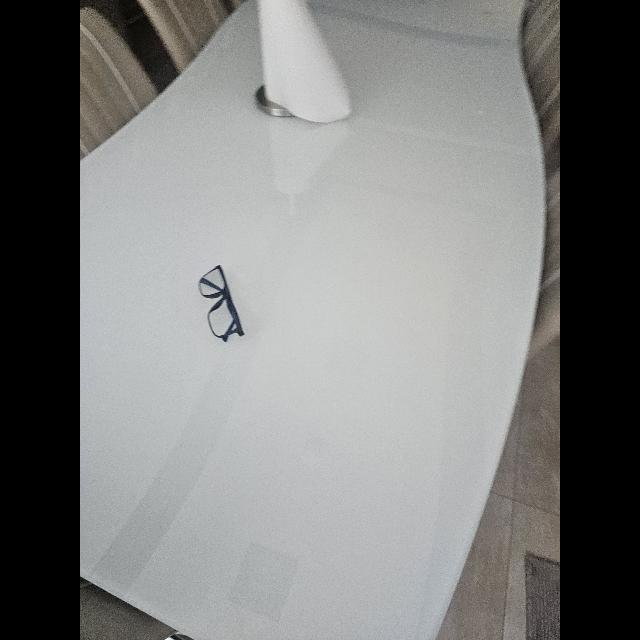glasses: (198, 264, 244, 342)
